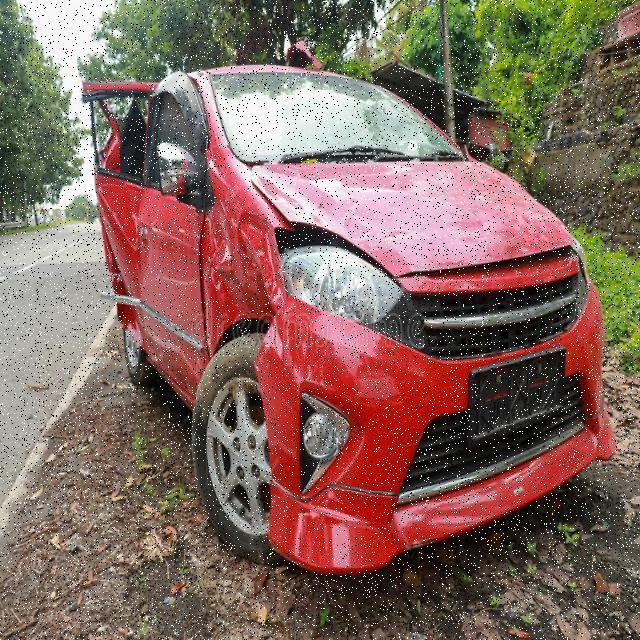bonnet-dent: (294, 157, 564, 276)
doorouter-dent: (84, 88, 146, 344)
fender-dent: (201, 162, 289, 345)
front-bumper-dent: (264, 302, 606, 582)
